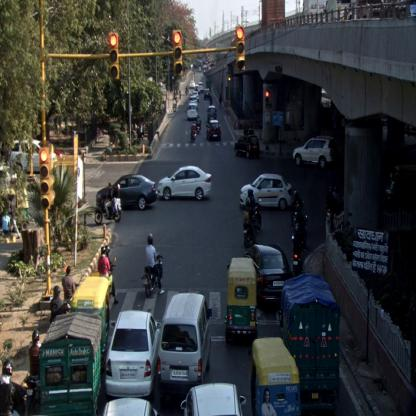car: (157, 291, 213, 382), (104, 310, 162, 396), (243, 244, 294, 306), (157, 164, 213, 203), (96, 174, 157, 209), (180, 385, 247, 415), (239, 173, 291, 209), (293, 136, 335, 167), (234, 136, 262, 160), (206, 121, 223, 140), (187, 102, 198, 121), (206, 106, 216, 119), (203, 87, 210, 99), (189, 78, 195, 89), (199, 82, 204, 92)
motorcycle: (23, 331, 41, 412), (98, 242, 120, 304), (92, 184, 126, 224), (143, 235, 164, 297), (242, 200, 256, 246), (246, 191, 261, 231), (291, 228, 302, 274), (191, 121, 196, 142), (197, 116, 200, 134)
truck: (280, 274, 340, 412), (38, 313, 102, 415)
